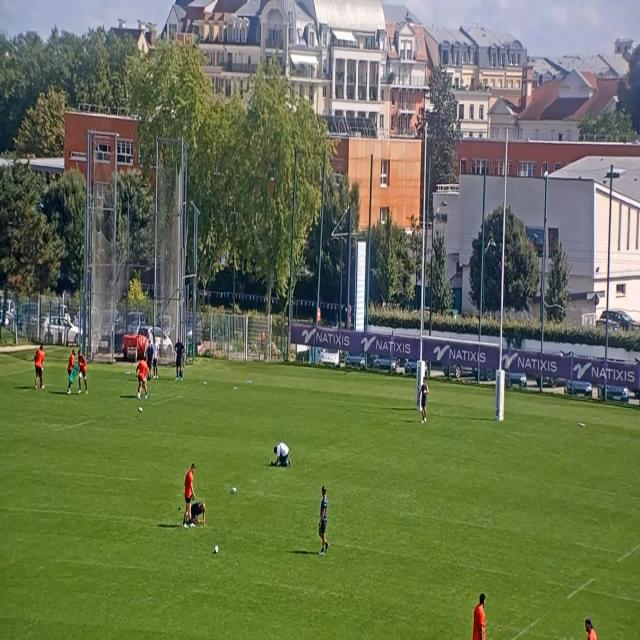rugby ball: (212, 542, 222, 562), (228, 479, 239, 496)
rugby play: (472, 581, 490, 640), (318, 480, 332, 552), (185, 455, 196, 526), (174, 332, 188, 384), (32, 335, 46, 386), (420, 372, 430, 434), (77, 334, 87, 389), (137, 353, 148, 399), (582, 609, 598, 640), (153, 330, 161, 378), (68, 344, 74, 392)
